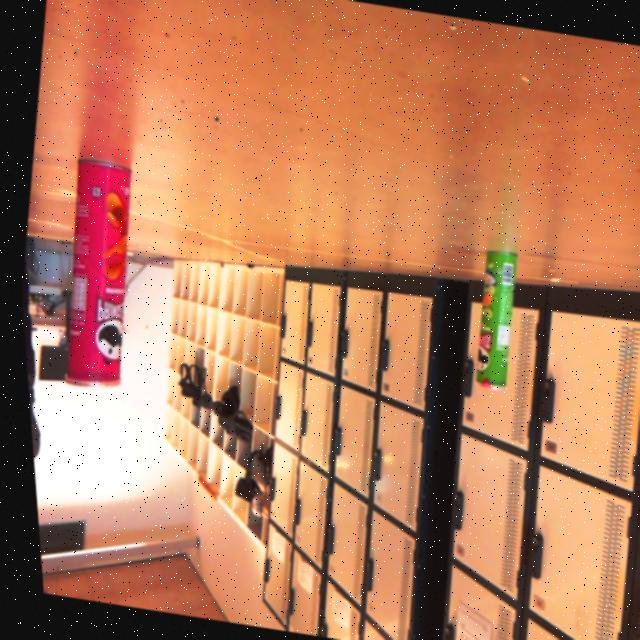greenpringles: (449, 238, 532, 400)
redpringles: (30, 147, 161, 406)
